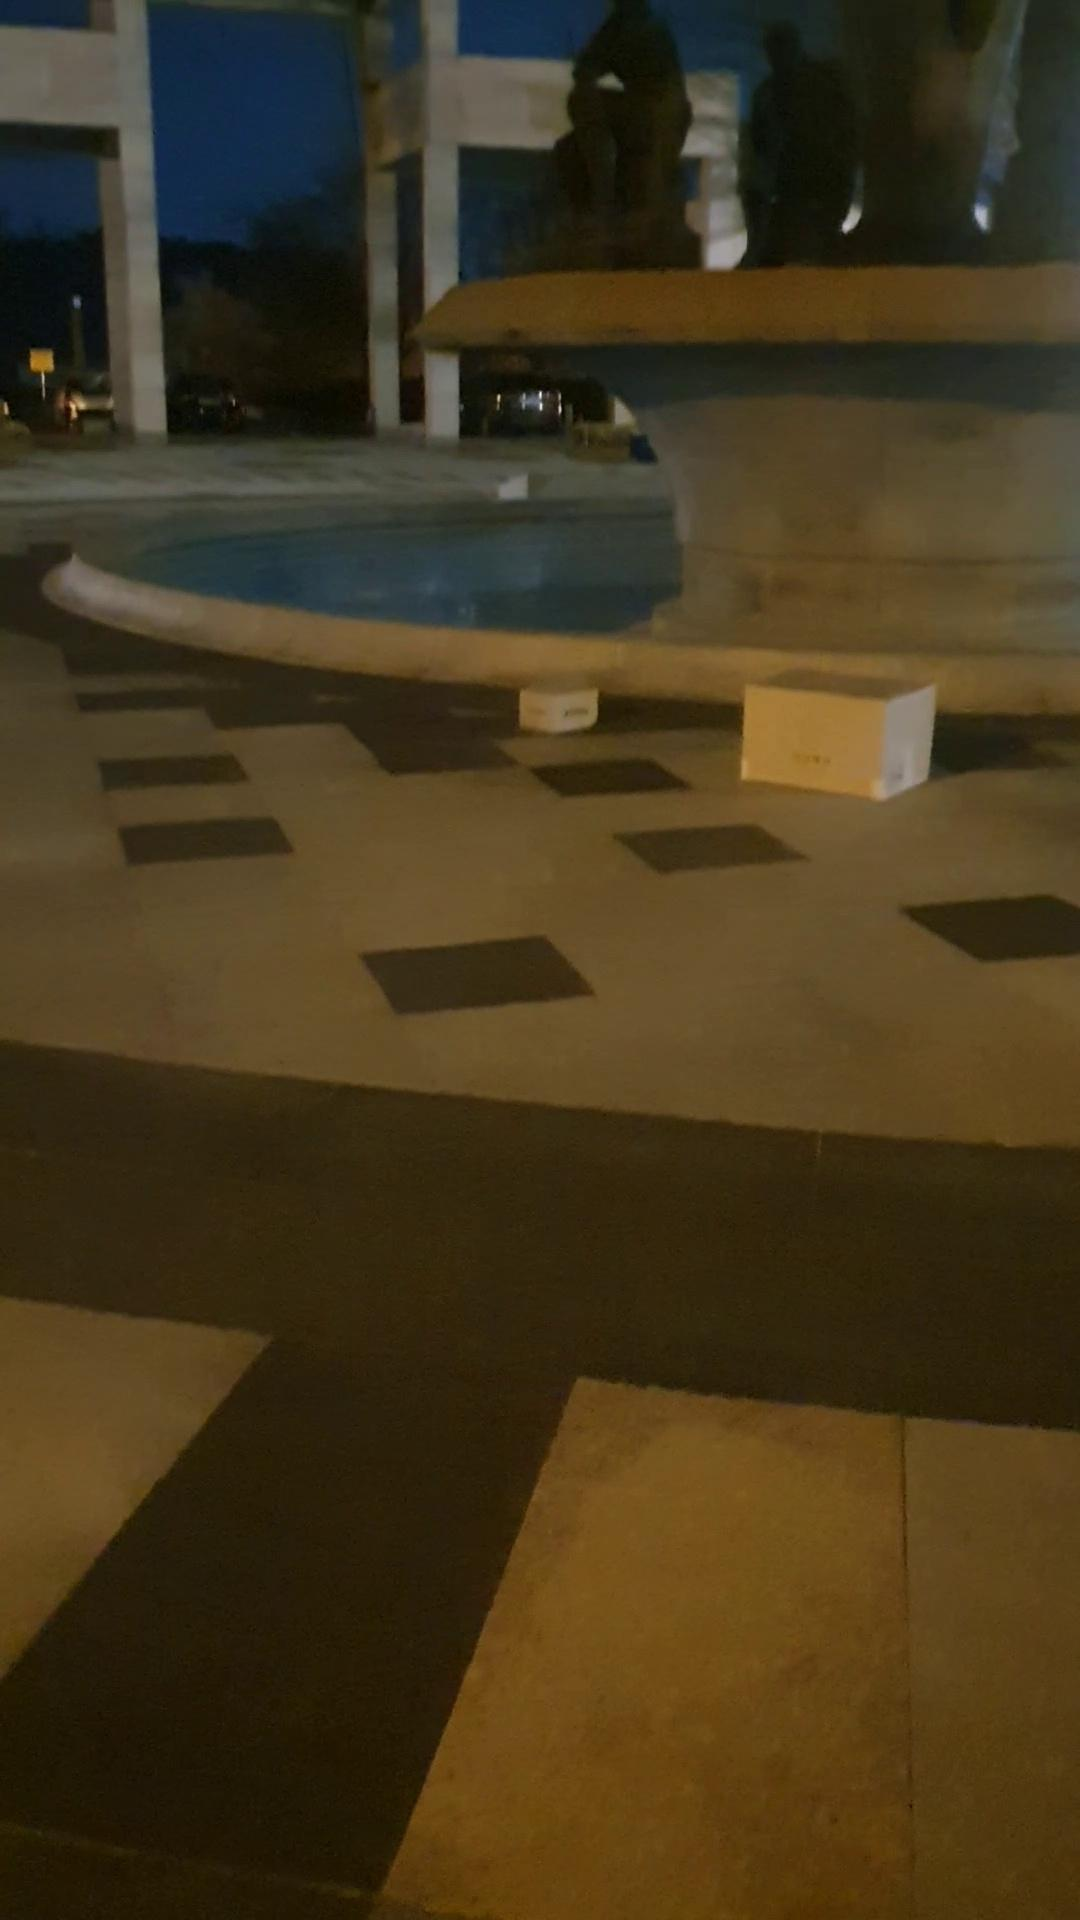Box: (733, 658, 953, 814), (498, 670, 607, 746)
